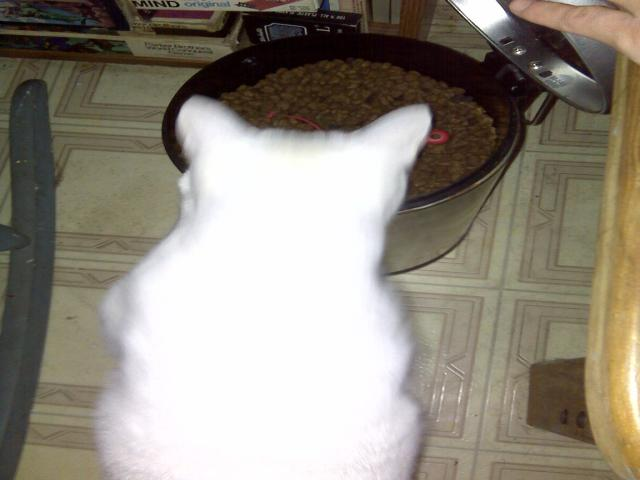Cat: (104, 94, 433, 480)
